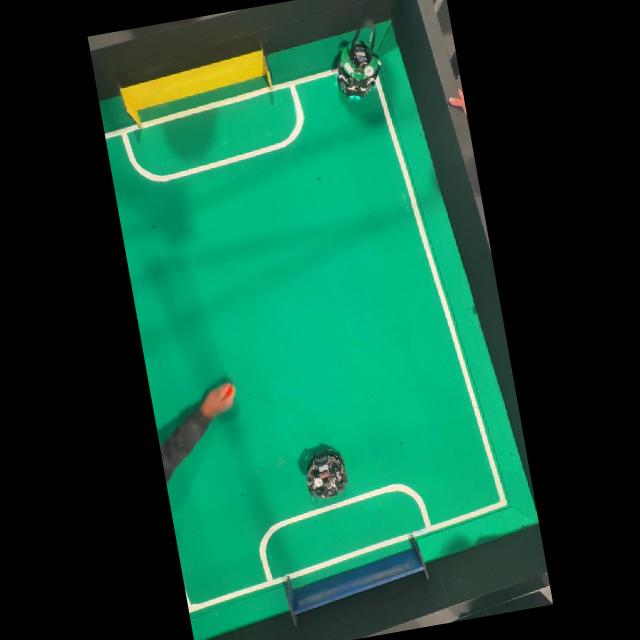goal: (285, 534, 428, 625), (119, 47, 271, 126)
robot: (337, 22, 380, 97), (306, 445, 347, 498)
